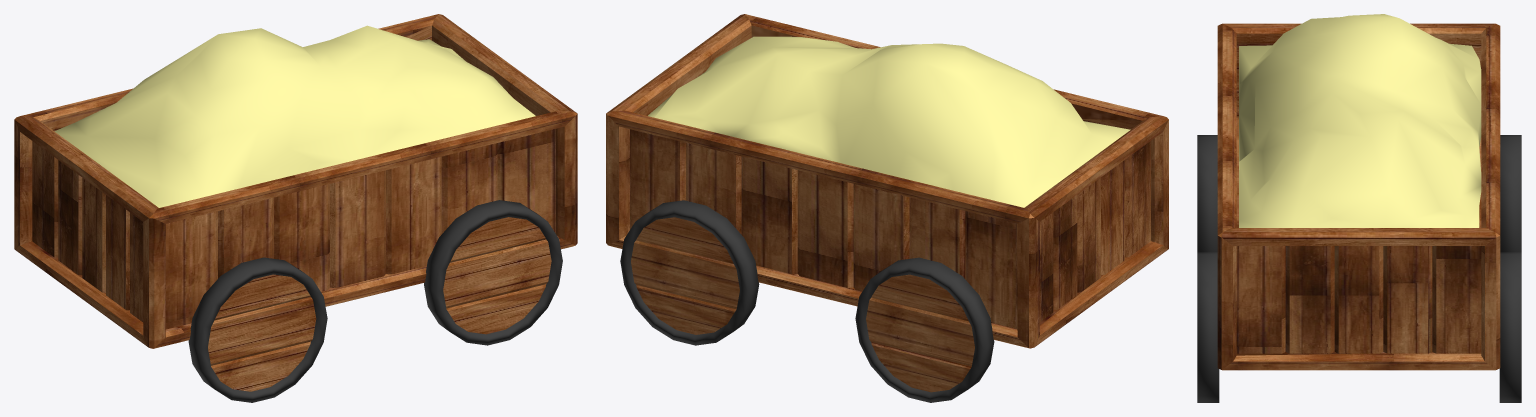
The model's file is wagon3.fbx.
3 views of the same model, side by side, from view 1: azimuth 30°, elevation 25°; view 2: azimuth 150°, elevation 25°; view 3: azimuth 270°, elevation 25° (orthographic). The views are drawn at different scales.
Visible parts, largest first — view 1: wagon; view 2: wagon; view 3: wagon.
Part boxes in pixels (x1,y1,x2,y2): wagon: (14,14,577,402); wagon: (606,14,1168,402); wagon: (1197,14,1521,402).
Size of the model in its own units: 536 by 338 by 344.
